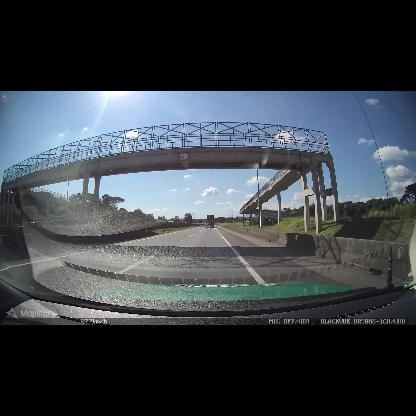R-15: (179, 153, 189, 160)
